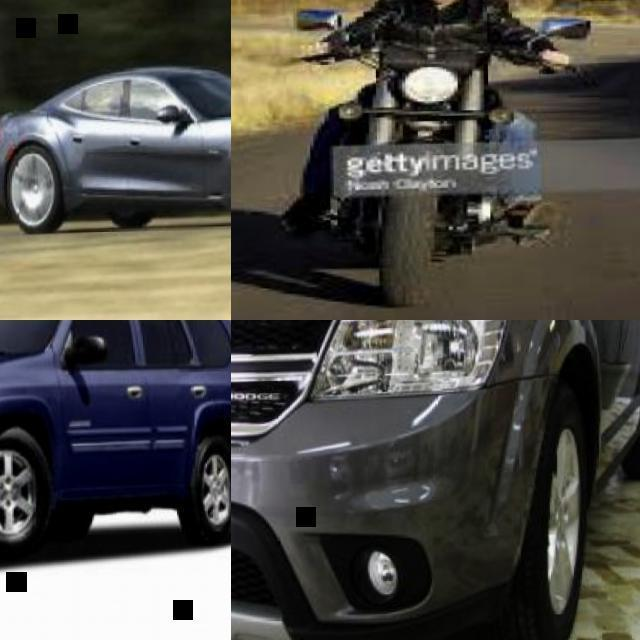car: (297, 0, 542, 251), (2, 350, 229, 555), (2, 66, 228, 235)
